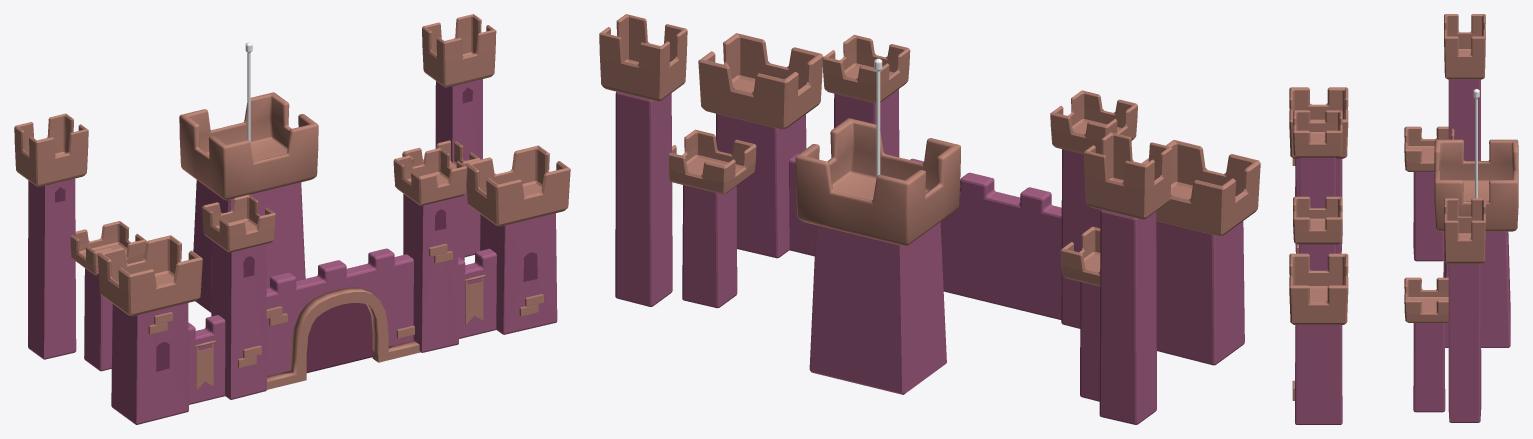
The model's file is Castle.fbx.
3 views of the same model, side by side, from view 1: azimuth 30°, elevation 25°; view 2: azimuth 150°, elevation 25°; view 3: azimuth 270°, elevation 25° (orthographic). The views are drawn at different scales.
Parts seen in each view (by area): view 1: Cube; view 2: Cube; view 3: Cube.
Part boxes in pixels (left/top/right/bottom): Cube: left=14, top=14, right=570, bottom=424; Cube: left=599, top=14, right=1260, bottom=424; Cube: left=1289, top=14, right=1518, bottom=424.
Size of the model in its own units: 24.24 by 13.1 by 11.3.
